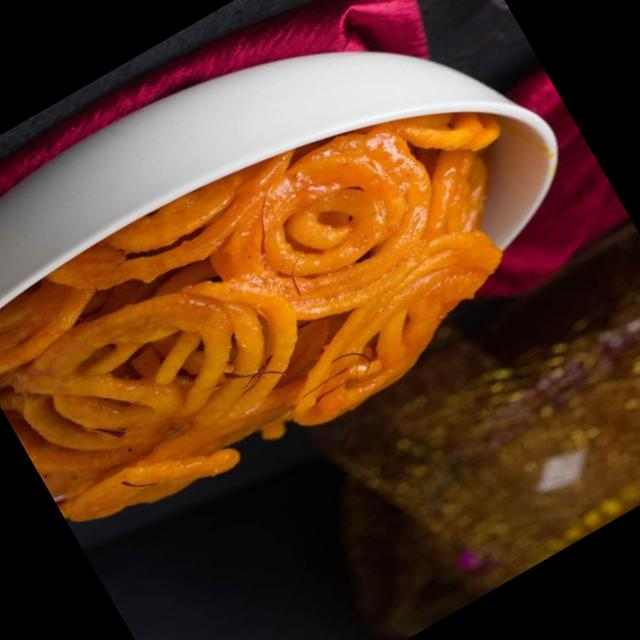jalebi: (0, 39, 547, 552)
